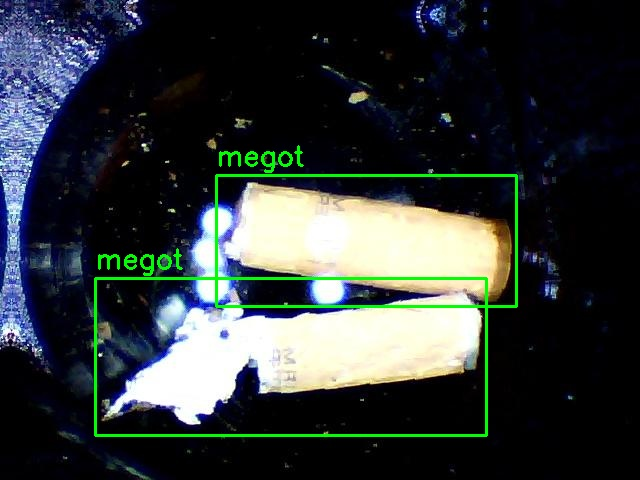megot: (95, 278, 486, 435), (216, 175, 516, 306)
